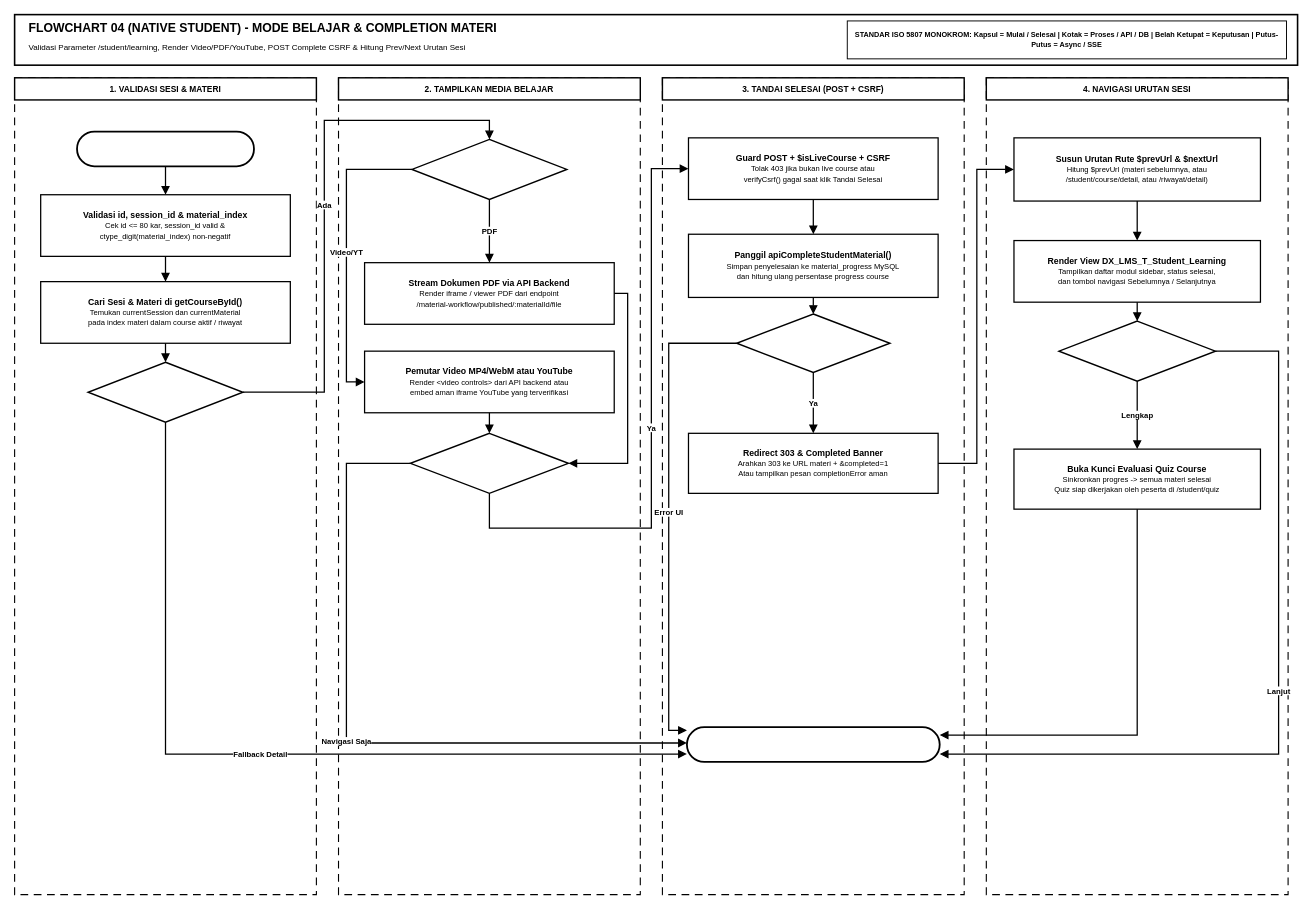
Some shapes in this 1311 by 909 pixel diagram are drawn without their labels. Here are the shapes that lost their labels. From the top down, the centre of each, then its label:
At (x=165, y=148): "BUKA /student/learning".
At (x=489, y=169): "Tipe Konten: PDF / Video / YT?".
At (x=813, y=343): "Penyimpanan Berhasil Disimpan?".
At (x=1137, y=350): "Semua Materi Sesi Selesai?".
At (x=165, y=392): "Sesi & Materi Ditemukan?".
At (x=489, y=463): "Aksi Student: Tandai Selesai?".
At (x=813, y=744): "PROGRES BELAJAR TERCATAT".
